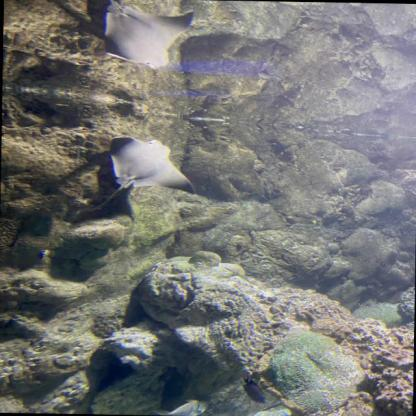fish: (155, 400, 209, 416), (240, 377, 268, 404)
stingray: (103, 4, 193, 70), (109, 136, 195, 195)
